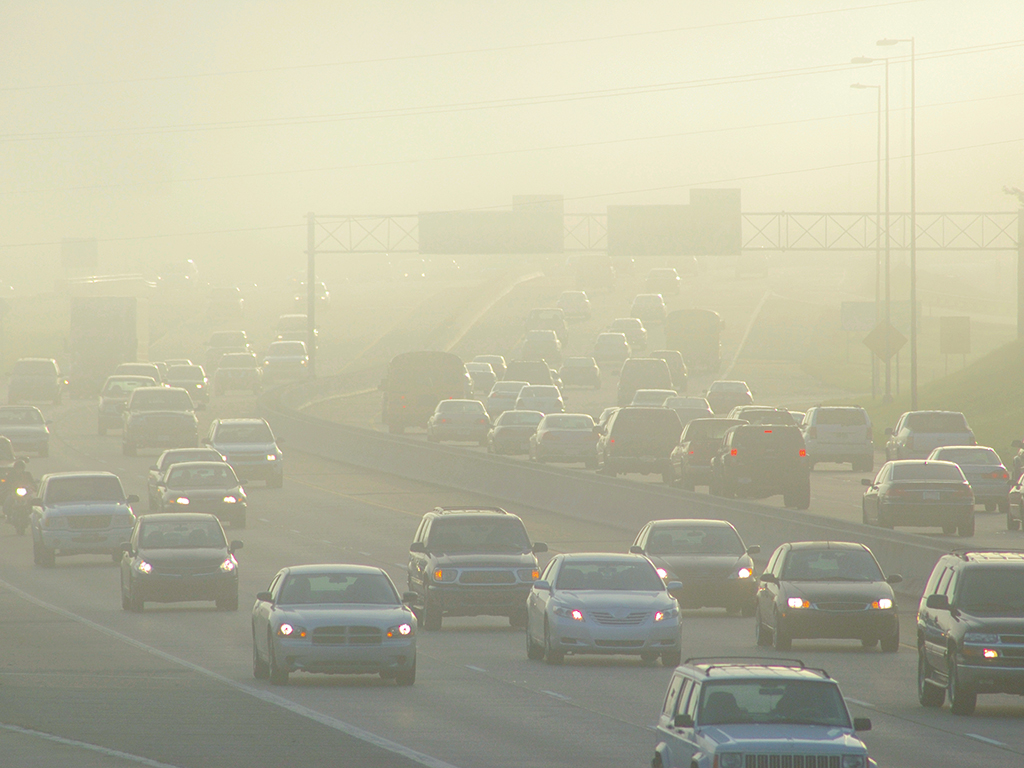bus: (384, 351, 467, 429), (663, 305, 723, 383)
car: (649, 650, 882, 766), (249, 562, 419, 686), (522, 550, 683, 669), (912, 550, 1022, 714), (401, 504, 537, 631), (754, 540, 902, 656), (626, 515, 757, 617), (115, 510, 243, 614), (29, 469, 136, 566), (860, 459, 974, 540), (713, 416, 811, 507), (153, 454, 251, 535), (598, 405, 682, 481), (924, 444, 1013, 512), (207, 416, 284, 492), (801, 405, 873, 477), (884, 409, 977, 459), (671, 406, 719, 497), (528, 412, 602, 470), (96, 373, 163, 434), (120, 389, 199, 437), (425, 398, 493, 451), (486, 409, 546, 458), (6, 351, 62, 401), (0, 401, 51, 455), (159, 361, 208, 408), (619, 354, 676, 393), (263, 340, 310, 381), (705, 378, 753, 416), (214, 358, 262, 389), (158, 251, 198, 287), (559, 351, 601, 384), (196, 328, 248, 353), (525, 304, 570, 328), (555, 288, 593, 316), (517, 382, 565, 404), (292, 280, 327, 309), (208, 288, 248, 313), (519, 331, 560, 355), (631, 294, 665, 322), (595, 331, 628, 355), (467, 361, 498, 386), (493, 380, 525, 399)
motorcycle: (7, 482, 34, 535)
person: (5, 460, 38, 523)
truck: (67, 294, 150, 397)
